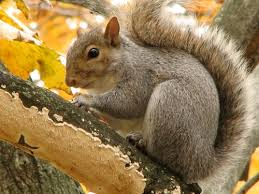squirrel: (65, 5, 254, 184)
